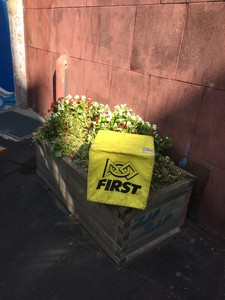cube: (86, 129, 157, 211)
